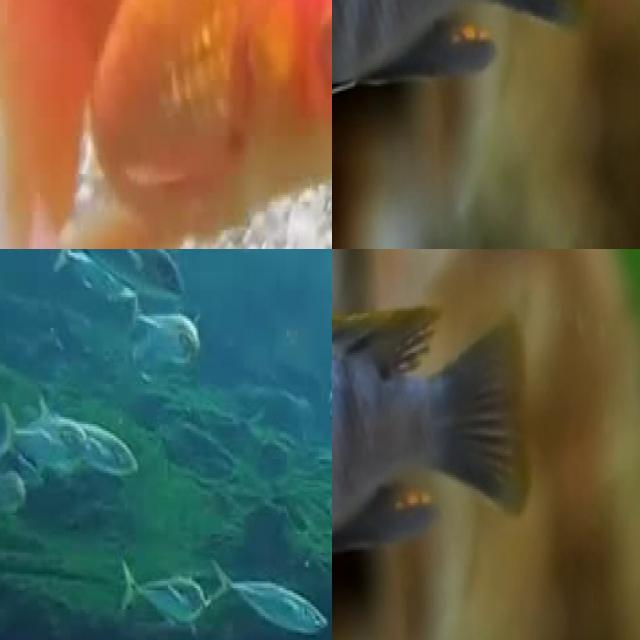fish: (0, 0, 332, 249), (332, 324, 539, 629), (210, 557, 330, 640)
